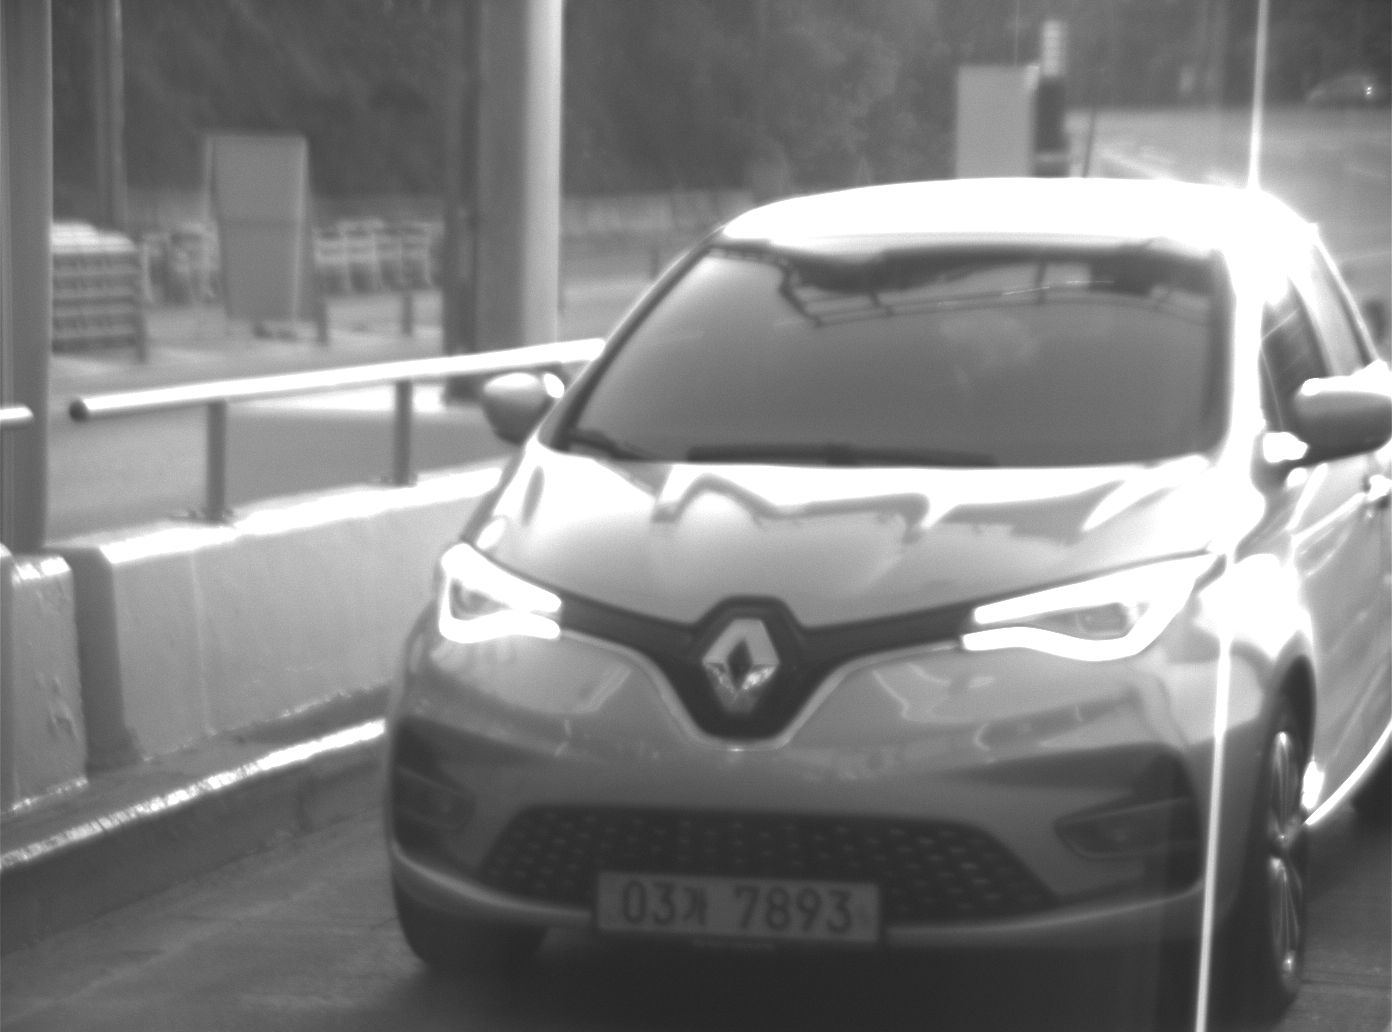car: (371, 172, 1392, 1032)
plate: (586, 868, 884, 949)
